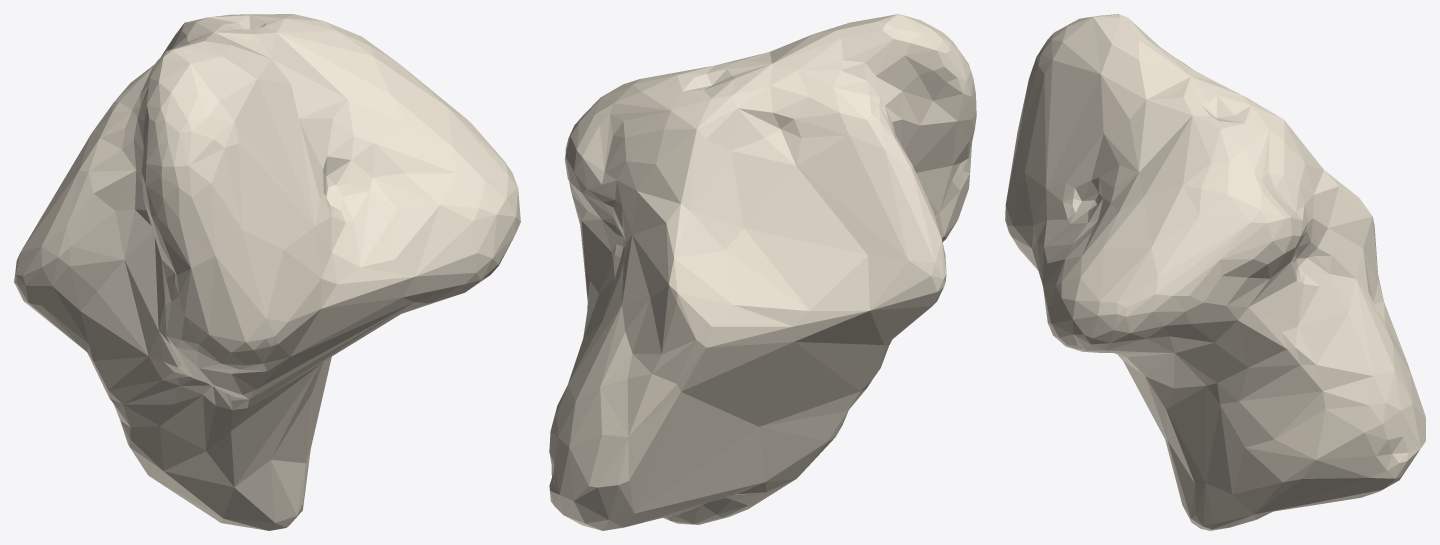
The model's file is left_trapezium.glb.
3 views of the same model, side by side, from view 1: azimuth 30°, elevation 25°; view 2: azimuth 150°, elevation 25°; view 3: azimuth 270°, elevation 25° (orthographic). The views are drawn at different scales.
Visible parts, largest first — view 1: left_trapezium; view 2: left_trapezium; view 3: left_trapezium.
Part boxes in pixels (x1=…): left_trapezium: x1=14, y1=14, x2=520, y2=530; left_trapezium: x1=549, y1=14, x2=976, y2=530; left_trapezium: x1=1005, y1=14, x2=1425, y2=530.
Size of the model in its own units: 0.0171 by 0.0201 by 0.017.
